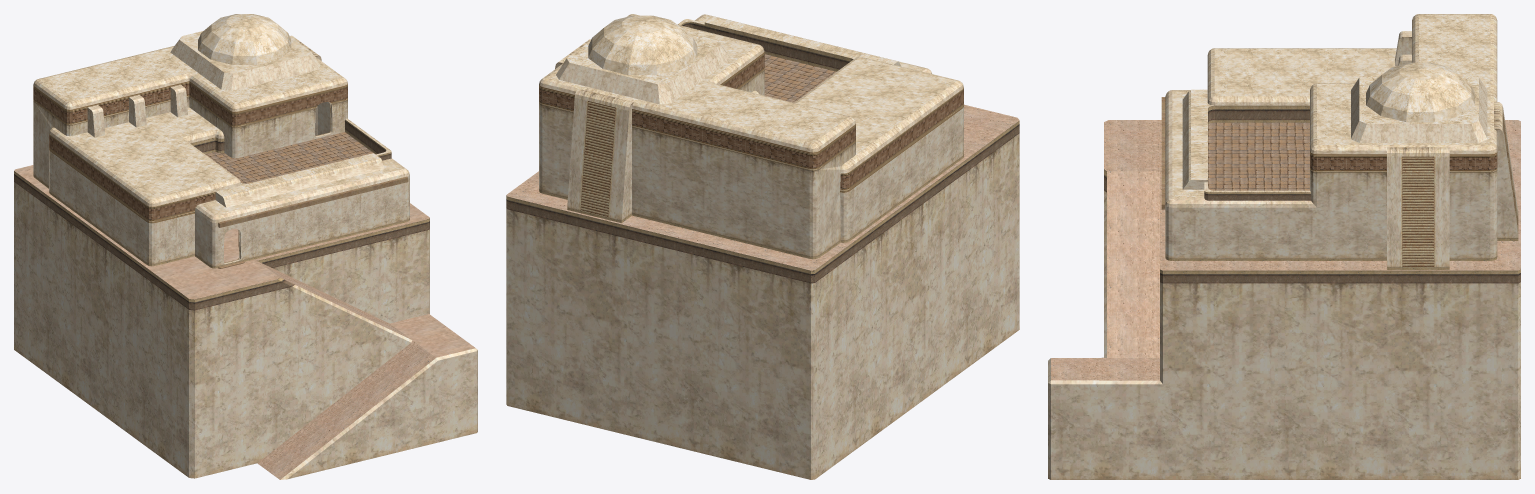
The model's file is ply_tato_house_m_s01_fp1_r0_mesh_l0.fbx.
3 renders of one model, left to right at view 1: azimuth 30°, elevation 25°; view 2: azimuth 150°, elevation 25°; view 3: azimuth 270°, elevation 25°, orthographic. The views are drawn at different scales.
Visible parts, largest first — view 1: mesh_node; view 2: mesh_node; view 3: mesh_node.
Boxes of the visible parts, <box> form: mesh_node: <box>14,14,477,479</box>; mesh_node: <box>506,14,1019,479</box>; mesh_node: <box>1048,14,1520,479</box>.
Bounding box in the file's own units: 25.47 × 29.03 × 33.78.
